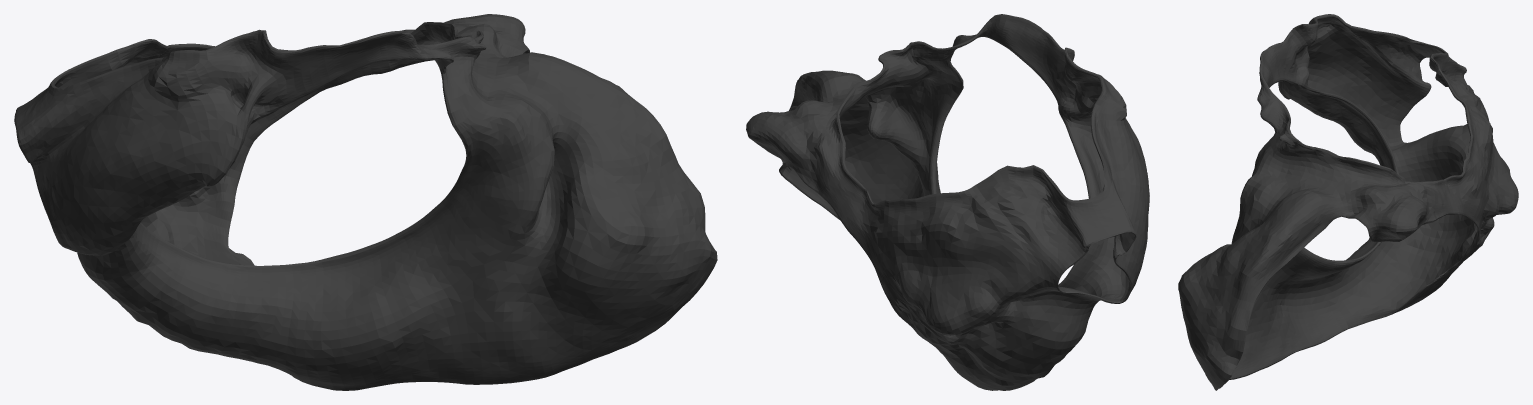
The model's file is Tympanic_cavity_middle_L.glb.
The picture shows the model from 3 angles, left to right: view 1: azimuth 30°, elevation 25°; view 2: azimuth 150°, elevation 25°; view 3: azimuth 270°, elevation 25°; orthographic projection. The views are drawn at different scales.
Visible parts, largest first — view 1: Tympanic_cavity_middle_L; view 2: Tympanic_cavity_middle_L; view 3: Tympanic_cavity_middle_L.
Boxes of the visible parts, x1=… form: Tympanic_cavity_middle_L: x1=14, y1=14, x2=717, y2=390; Tympanic_cavity_middle_L: x1=746, y1=14, x2=1149, y2=390; Tympanic_cavity_middle_L: x1=1178, y1=14, x2=1518, y2=390.
Bounding box in the file's own units: 7.07 × 4.66 × 5.01.
1 material, 1 textured.
